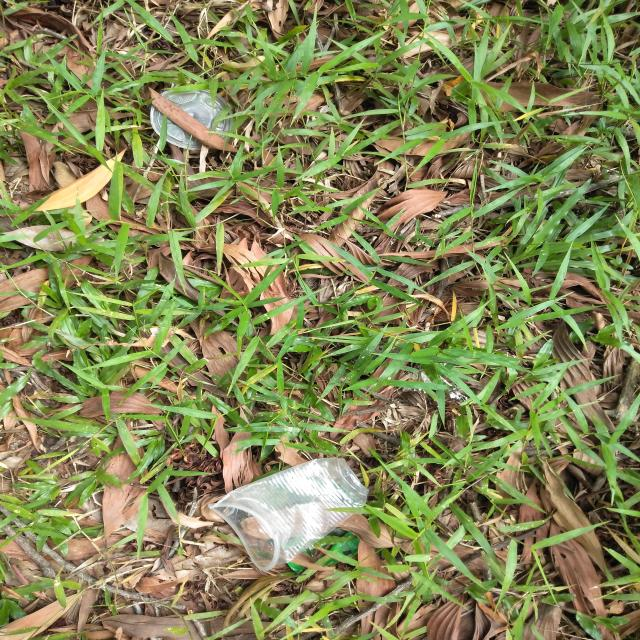litter: (207, 458, 370, 571), (151, 90, 233, 150), (287, 538, 360, 574)
